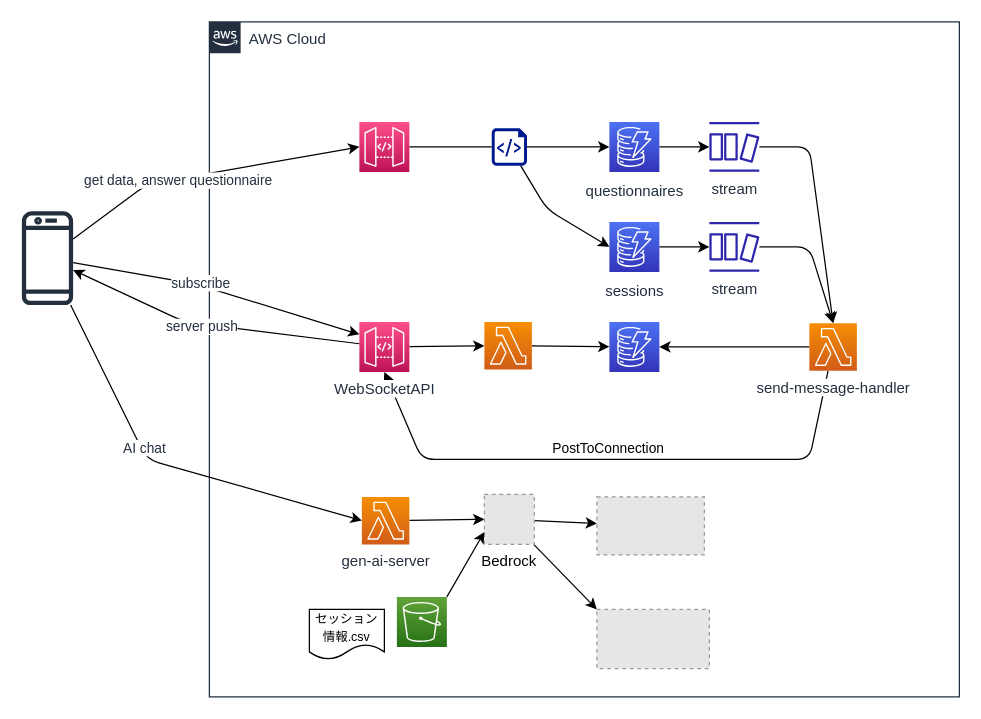
Some shapes in this 981 by 719 pixel diagram are drawn without their labels. Grey dashed boxes stand in for pictures. The shapes that lost their labels are listed below. From the top down, each one's centre as x and y in pixels, then its label:
At (x=383, y=146): "REST API".
At (x=508, y=146): "Mapping Template(VTL)".
At (x=507, y=345): "wsapi-handler".
At (x=633, y=346): "wsapi".
At (x=421, y=621): "datasource".
